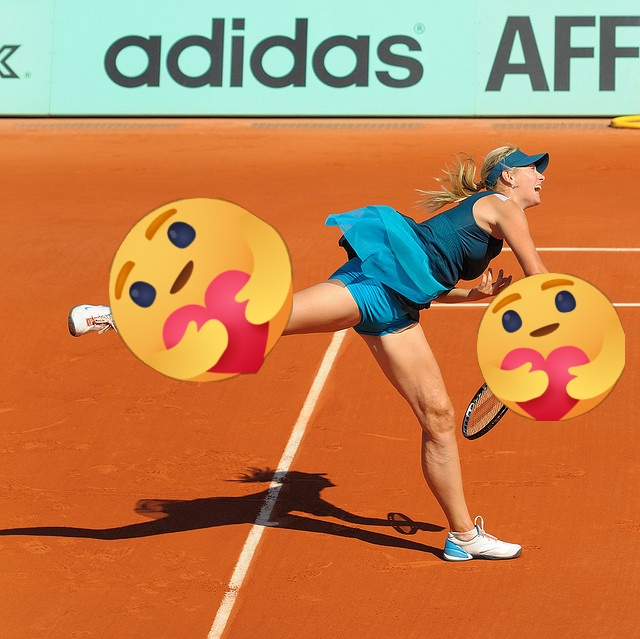care: (109, 198, 293, 382), (477, 273, 625, 421)
